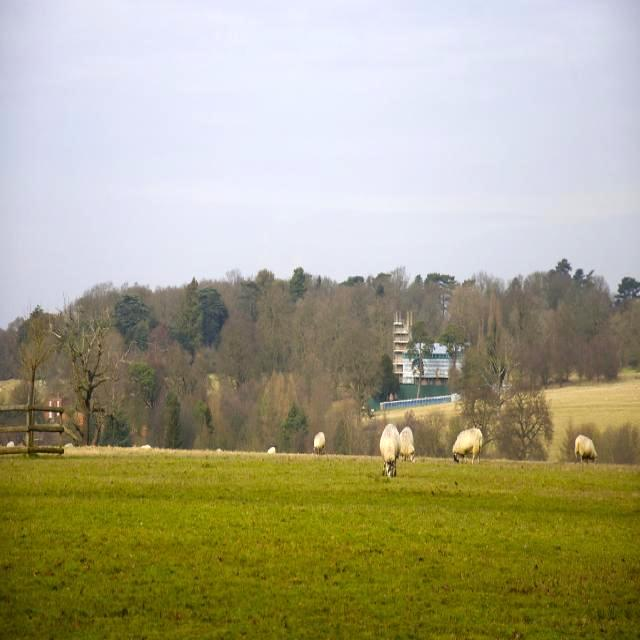sheep: (452, 428, 482, 462)
